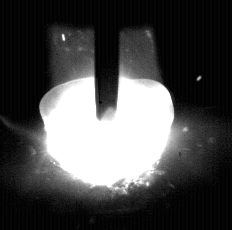arame: (96, 0, 120, 121)
poca: (46, 0, 170, 230)
